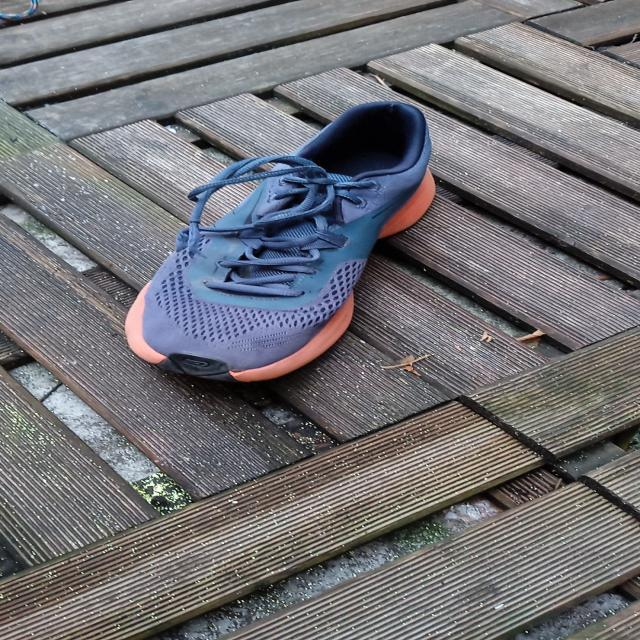shoes: (122, 100, 438, 383)
